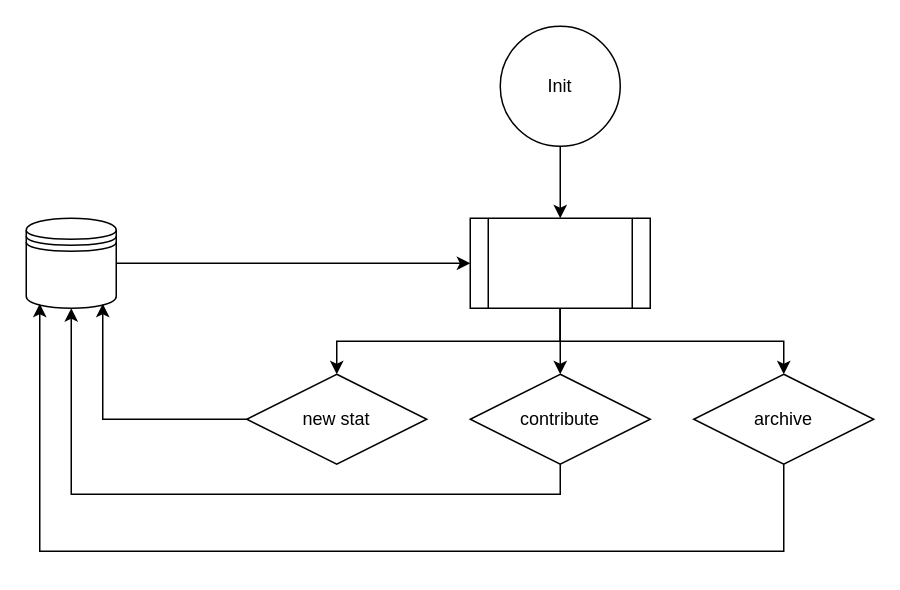
This 900x590 diagram has some shape labels left out. Each missing label, with the centre of its shape:
"dashboard" belongs at [559,262].
"sav" belongs at [70,262].
